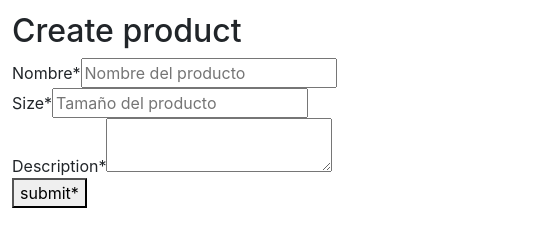
when the user send the form empty › should show the validation messages
expect the text "name is require" is not shown: met
expect the text "size is require" is not shown: met
Click the button "submit*". click: (49, 193)
box: 12,178 -> 87,208
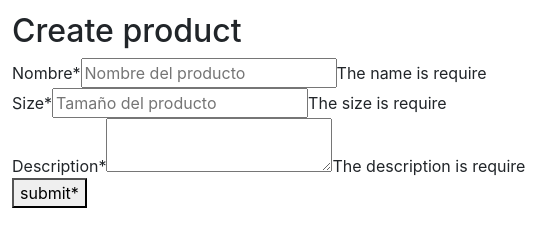
expect the text "The name is require" is shown: met, box 337,63 -> 487,83
expect the text "The size is require" is shown: met, box 308,93 -> 447,113
expect the text "The description is require" is shown: met, box 332,156 -> 526,176
